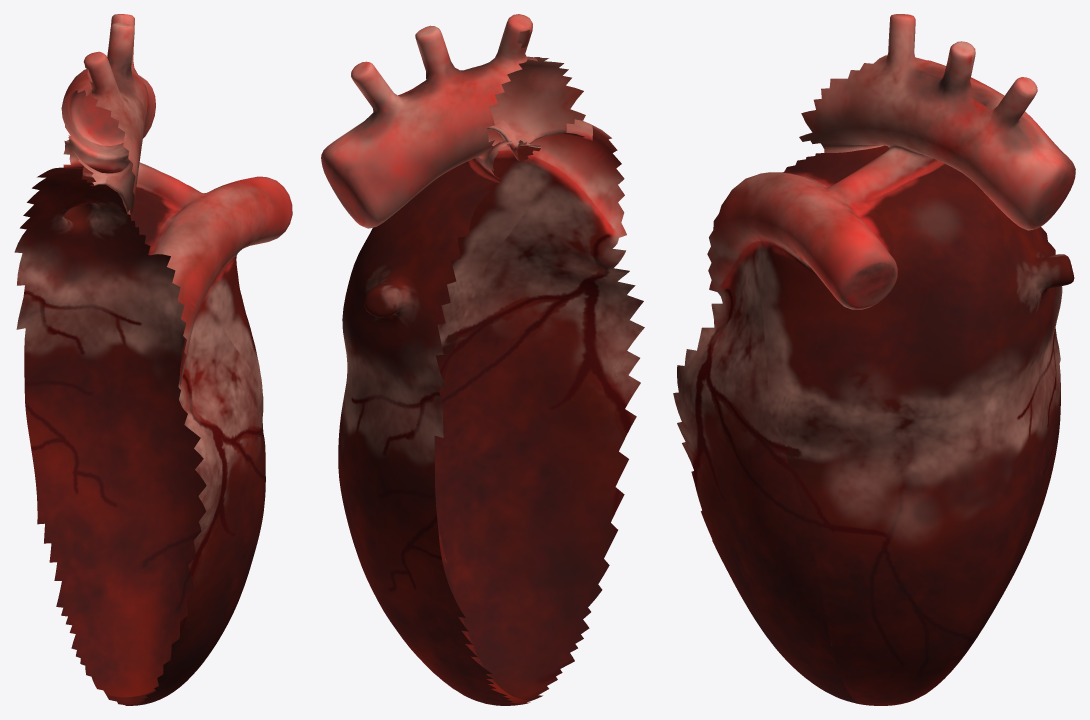
The model's file is halfheart.fbx.
3 views of the same model, side by side, from view 1: azimuth 30°, elevation 25°; view 2: azimuth 150°, elevation 25°; view 3: azimuth 270°, elevation 25° (orthographic). The views are drawn at different scales.
Parts seen in each view (by area): view 1: hart:ZBrush_defualt_group; view 2: hart:ZBrush_defualt_group; view 3: hart:ZBrush_defualt_group.
Part boxes in pixels (box(x1,y1,x2,y2)): hart:ZBrush_defualt_group: box(14, 14, 292, 705); hart:ZBrush_defualt_group: box(321, 14, 644, 705); hart:ZBrush_defualt_group: box(673, 14, 1075, 705).
Bounding box in the file's own units: 273 × 919 × 497.
